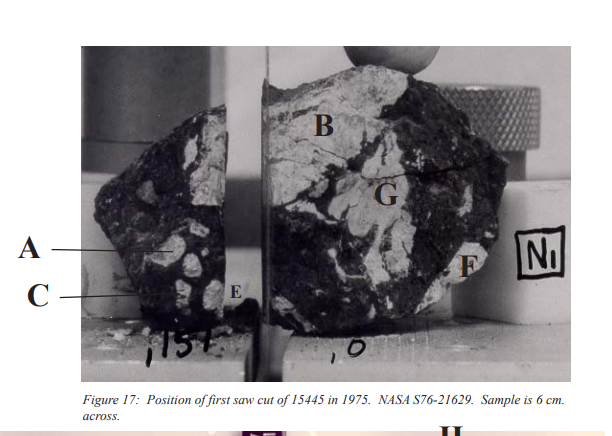Breccia: (254, 60, 503, 329), (106, 115, 228, 336)
